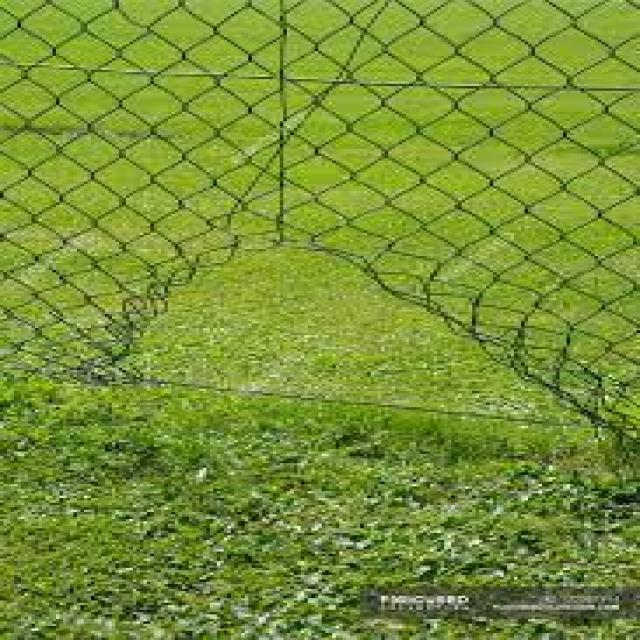fence line: (77, 228, 629, 440)
